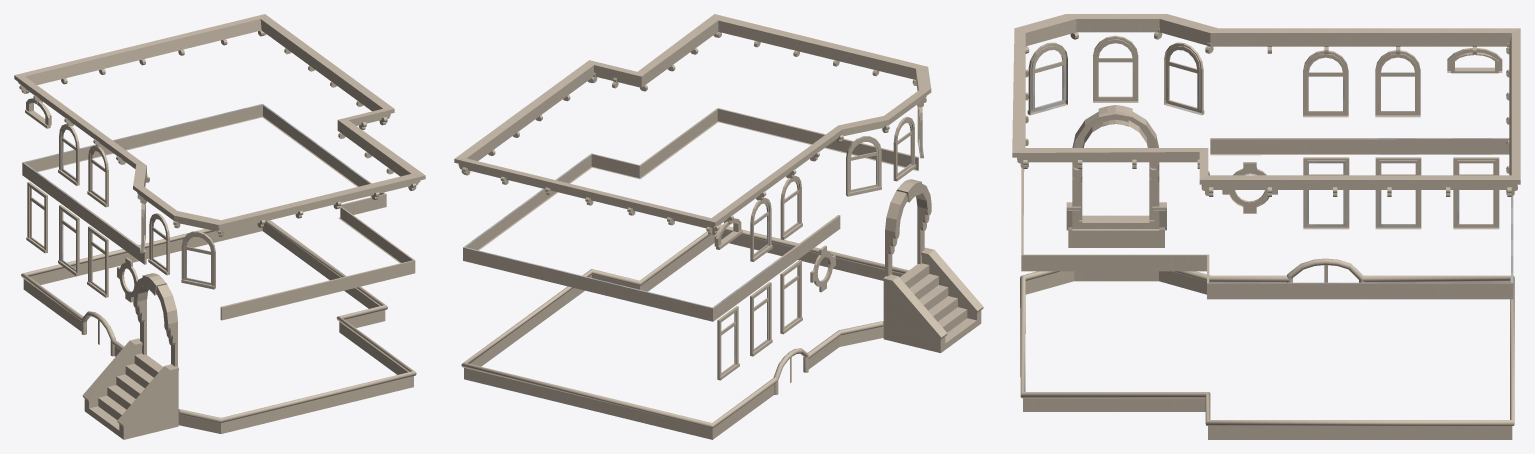
File: Marcos.obj
3 renders of one model, left to right at view 1: azimuth 30°, elevation 25°; view 2: azimuth 150°, elevation 25°; view 3: azimuth 270°, elevation 25°, orthographic. The views are drawn at different scales.
Parts seen in each view (by area): view 1: Marcos1:_DETALLE____MARCOS___VENTANAS_Cilindro_003; view 2: Marcos1:_DETALLE____MARCOS___VENTANAS_Cilindro_003; view 3: Marcos1:_DETALLE____MARCOS___VENTANAS_Cilindro_003.
Boxes of the visible parts, bbox=[...] form: Marcos1:_DETALLE____MARCOS___VENTANAS_Cilindro_003: bbox=[14, 14, 425, 439]; Marcos1:_DETALLE____MARCOS___VENTANAS_Cilindro_003: bbox=[454, 14, 983, 439]; Marcos1:_DETALLE____MARCOS___VENTANAS_Cilindro_003: bbox=[1012, 14, 1520, 439].
Size of the model in its own units: 42.76 by 26.77 by 46.77.
1 material, 1 textured.
